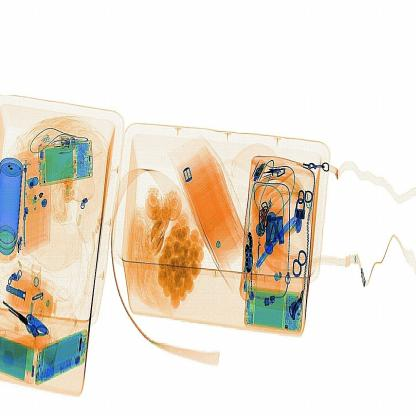pliers: (264, 207, 303, 273)
